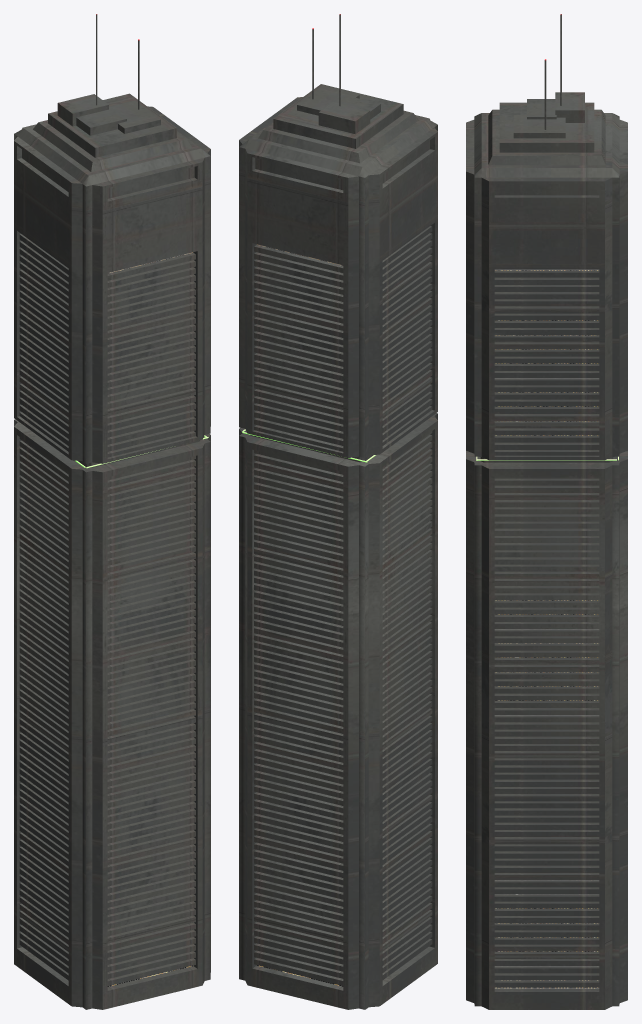
The model's file is cyberpunk-hightower-big.glb.
3 renders of one model, left to right at view 1: azimuth 30°, elevation 25°; view 2: azimuth 150°, elevation 25°; view 3: azimuth 270°, elevation 25°, orthographic.
Visible parts, largest first — view 1: cyberpunk-hightower-big; view 2: cyberpunk-hightower-big; view 3: cyberpunk-hightower-big.
Part boxes in pixels (x1,y1,x2,y2): cyberpunk-hightower-big: [14, 14, 210, 1009]; cyberpunk-hightower-big: [239, 14, 437, 1009]; cyberpunk-hightower-big: [466, 14, 627, 1009].
Size of the model in its own units: 131 by 855 by 131.
4 materials, 2 textured.
